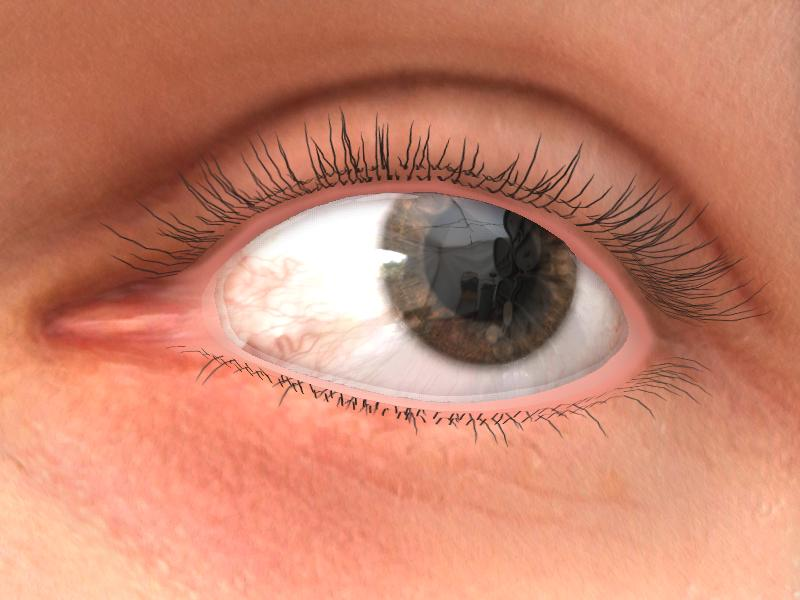eye: (376, 188, 579, 364)
